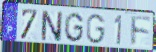1: (113, 15, 123, 47)
7: (20, 8, 39, 41)
F: (130, 14, 153, 48)
G: (63, 12, 85, 44), (86, 13, 107, 46)
N: (41, 9, 63, 43)
